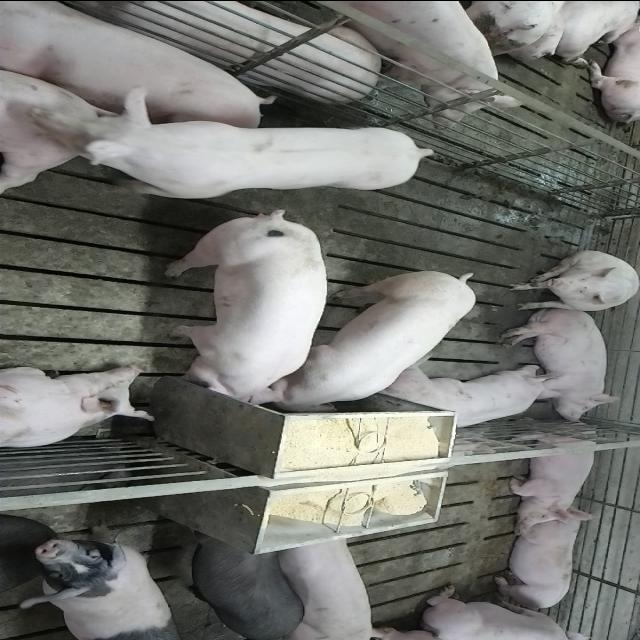Feeding: (160, 205, 331, 408), (258, 264, 478, 412)
Lateral_lying: (1, 0, 273, 125), (498, 307, 624, 423)
Sitting: (506, 250, 638, 312)
Standing: (27, 117, 435, 201), (292, 0, 512, 126), (156, 528, 306, 638), (22, 534, 176, 638), (276, 527, 376, 637)
Sternal_lying: (0, 362, 156, 448), (380, 365, 566, 431), (489, 510, 591, 612), (416, 585, 608, 637), (505, 424, 603, 523)
